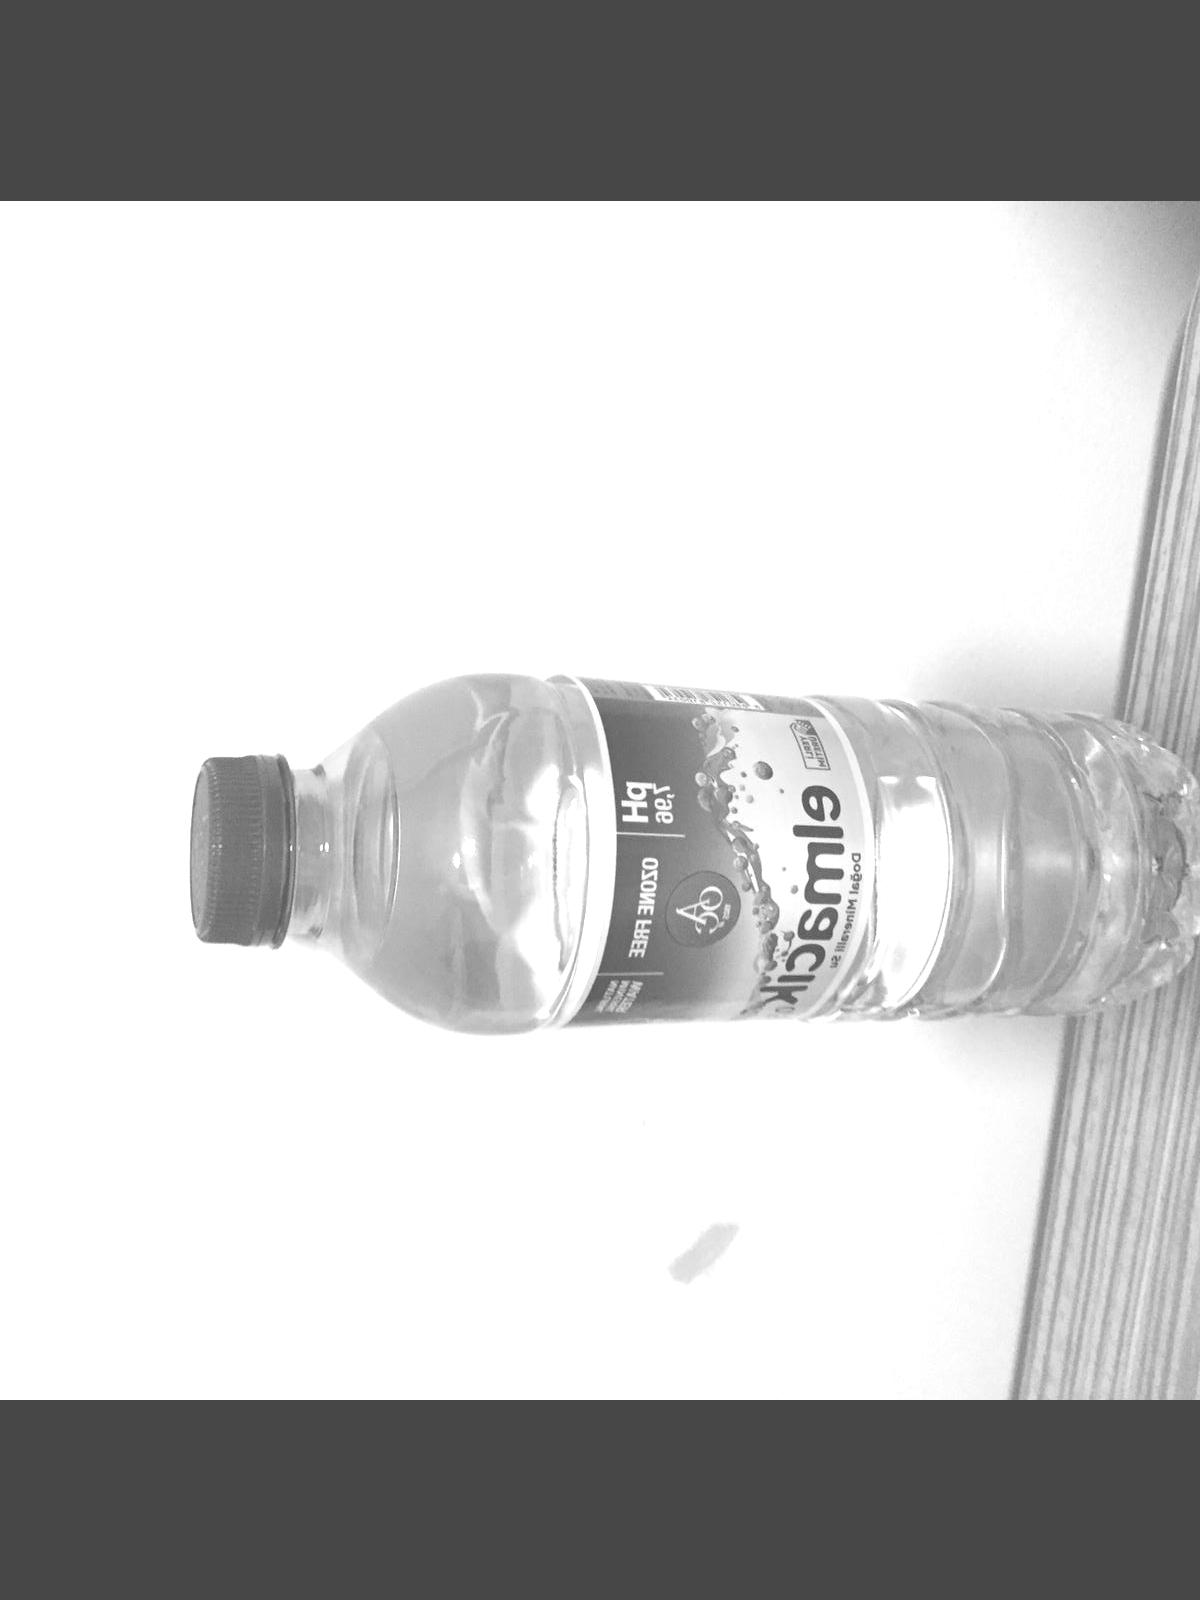bottle: (176, 682, 1200, 1031)
